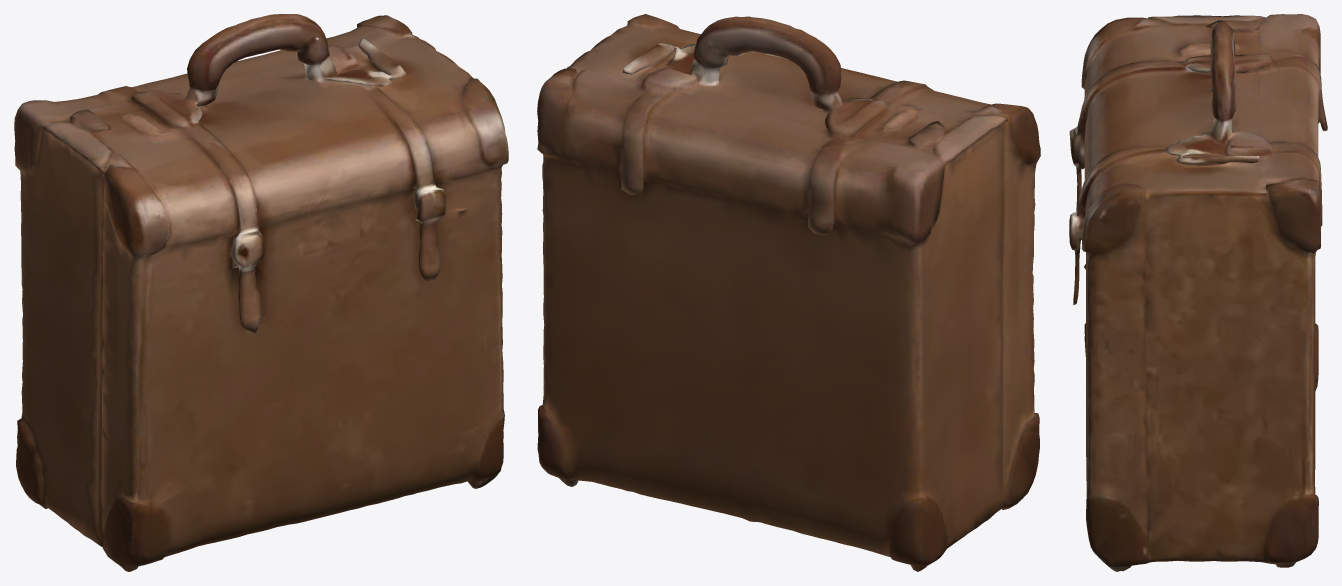
Rendered from 13_suitcase.glb.
The picture shows the model from 3 angles, left to right: view 1: azimuth 30°, elevation 25°; view 2: azimuth 150°, elevation 25°; view 3: azimuth 270°, elevation 25°; orthographic projection. The views are drawn at different scales.
Visible parts, largest first — view 1: geometry_0; view 2: geometry_0; view 3: geometry_0.
Boxes of the visible parts, x1=… form: geometry_0: x1=14, y1=14, x2=508, y2=571; geometry_0: x1=537, y1=14, x2=1040, y2=571; geometry_0: x1=1069, y1=14, x2=1327, y2=571.
Bounding box in the file's own units: 1.59 × 1.9 × 0.9699.
Materials: 1 (1 with a texture image).
